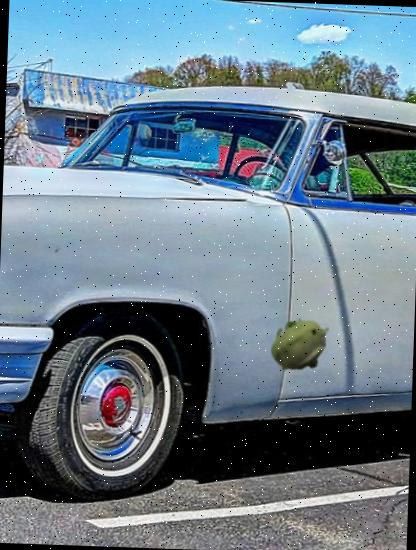Kohlrabi: (268, 312, 336, 378)
